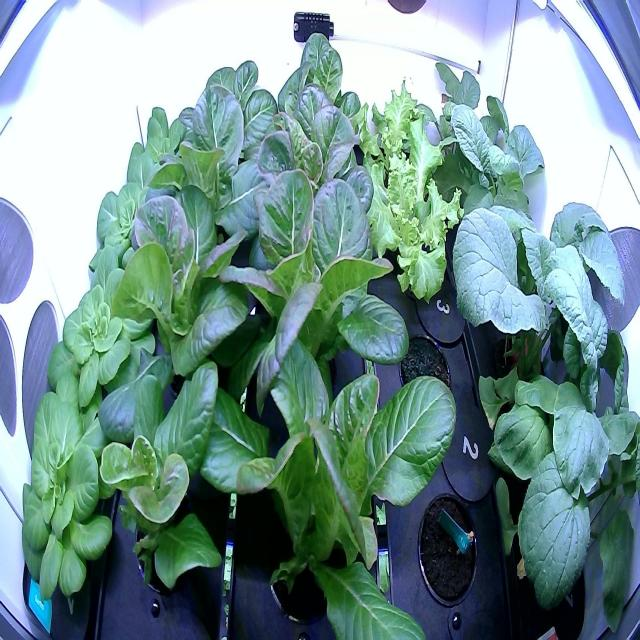Ready: (224, 327, 463, 639), (219, 158, 415, 422), (110, 152, 286, 418), (130, 85, 290, 297), (230, 84, 386, 276), (162, 44, 282, 218), (252, 19, 378, 180)
pod: (412, 479, 484, 616), (390, 324, 460, 432)
young: (91, 320, 278, 612), (12, 376, 134, 614), (37, 252, 166, 431), (81, 140, 202, 320), (113, 91, 210, 231)
